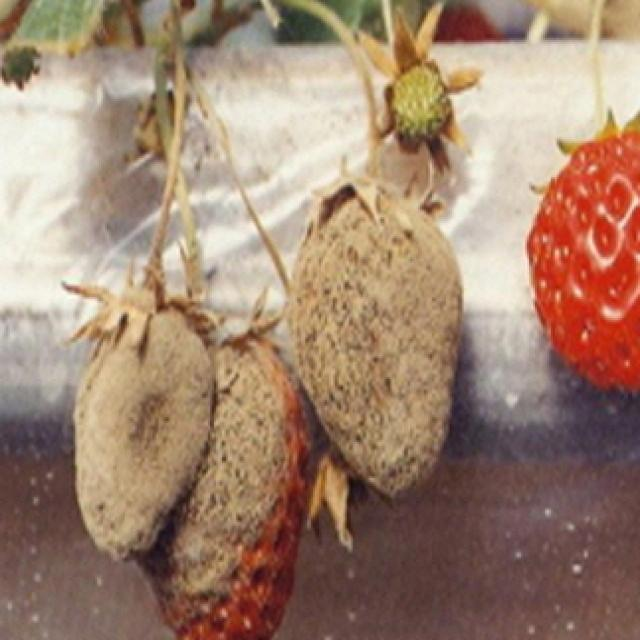Gray Mold: (291, 170, 465, 507), (132, 329, 320, 640), (74, 291, 215, 566)
